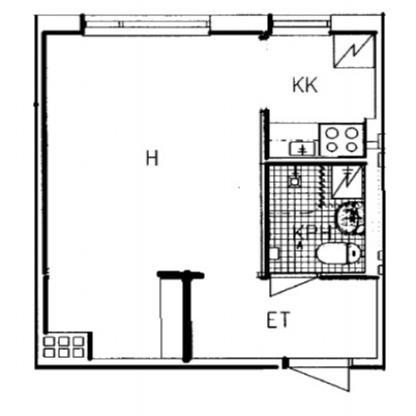bathroom: (266, 164, 368, 281)
door: (283, 355, 360, 397), (265, 273, 326, 299)
perimeter: (34, 16, 388, 367)
window: (77, 8, 216, 42), (267, 10, 334, 40)
